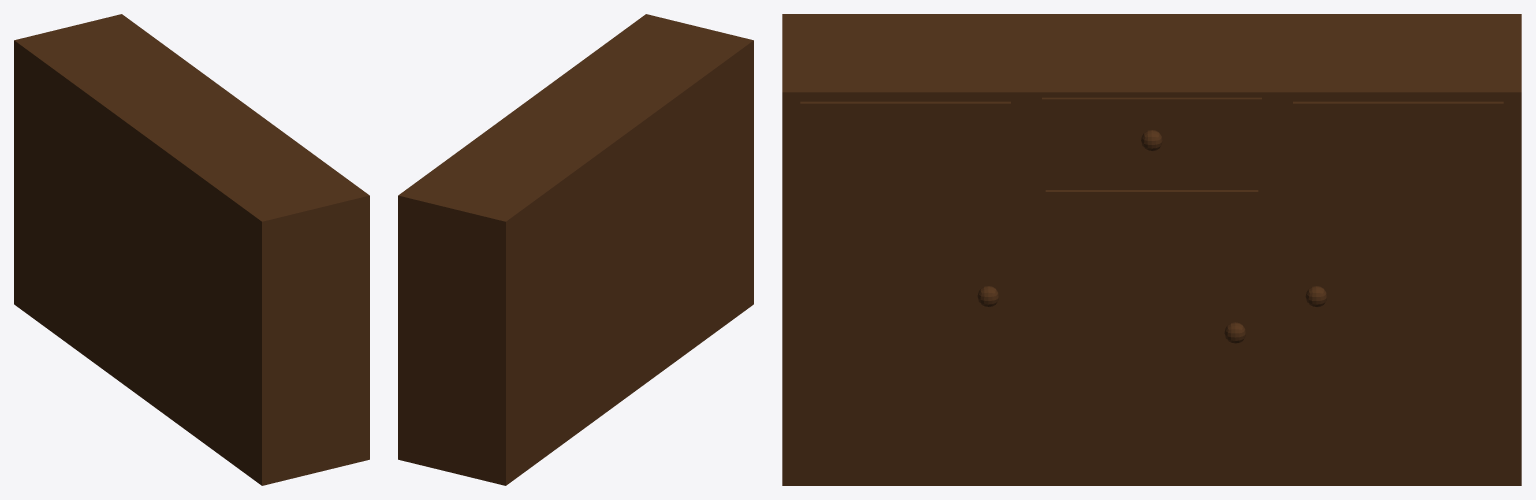
The model's file is Cabinet_v005(Basic).fbx.
3 views of the same model, side by side, from view 1: azimuth 30°, elevation 25°; view 2: azimuth 150°, elevation 25°; view 3: azimuth 270°, elevation 25° (orthographic). The views are drawn at different scales.
Visible parts, largest first — view 1: Cabinet; view 2: Cabinet; view 3: Cabinet, Door_1, Door_3, Door_2, Drawer.
Boxes of the visible parts, bbox=[...] form: Cabinet: bbox=[14, 14, 369, 485]; Cabinet: bbox=[398, 14, 753, 485]; Cabinet: bbox=[782, 14, 1521, 485]; Door_1: bbox=[800, 101, 1010, 478]; Door_3: bbox=[1293, 101, 1503, 478]; Door_2: bbox=[1045, 190, 1258, 478]; Drawer: bbox=[1042, 97, 1261, 177].
Bounding box in the file's own units: 225 × 469 × 797.
